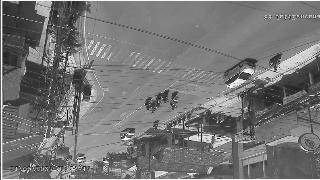mobil: (226, 58, 258, 88), (120, 124, 138, 142)
motor: (269, 51, 285, 71), (150, 117, 163, 131)
